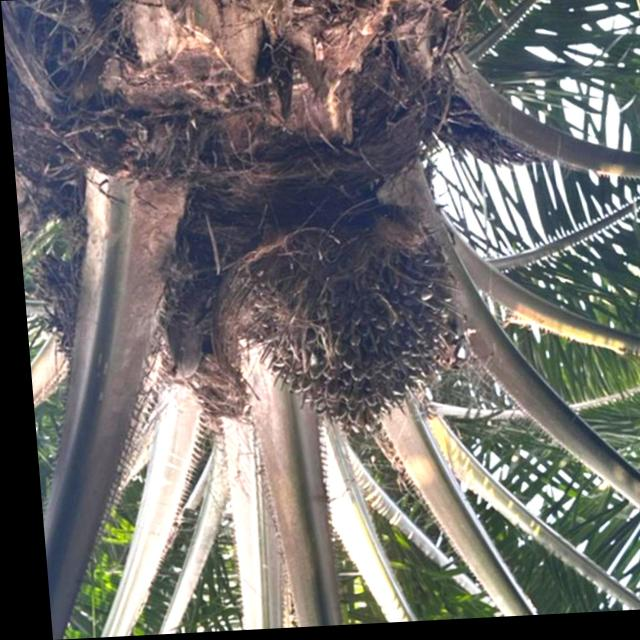almost: (226, 205, 466, 450)
